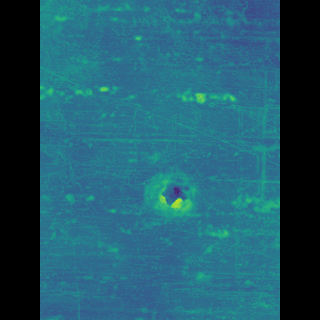Loch: (154, 173, 184, 217)
